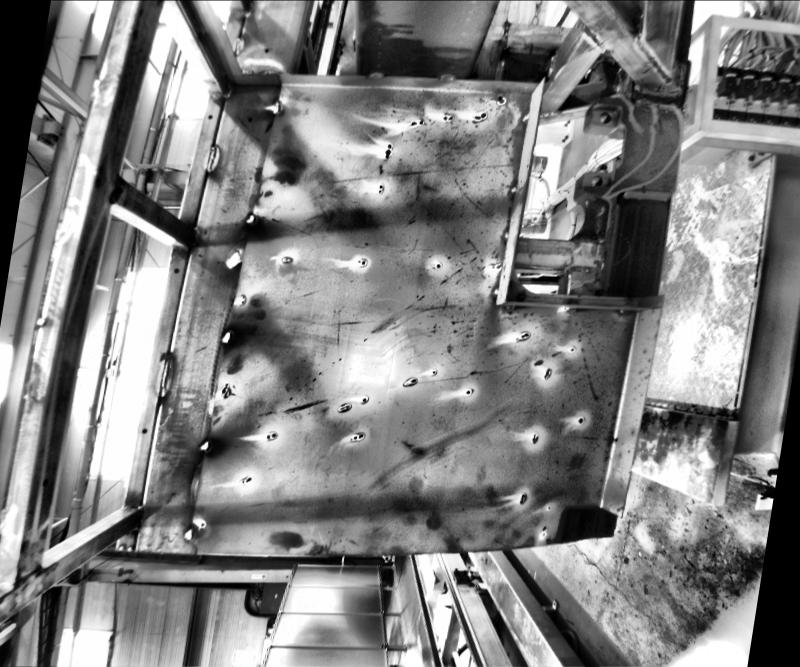hole: (590, 174, 604, 188), (598, 112, 614, 124), (173, 266, 181, 274), (136, 514, 141, 522), (247, 117, 253, 121), (264, 48, 270, 52), (142, 428, 148, 432), (208, 114, 213, 118)
welding: (632, 40, 674, 78), (582, 25, 608, 50), (160, 355, 172, 402), (199, 434, 217, 456), (232, 34, 246, 58), (205, 142, 216, 170), (112, 174, 122, 204), (244, 211, 260, 229), (273, 99, 285, 116), (436, 71, 456, 81), (188, 228, 198, 248), (220, 330, 234, 344), (520, 110, 534, 122), (183, 526, 197, 538), (134, 508, 142, 528), (560, 306, 582, 310), (368, 72, 382, 78), (511, 183, 519, 193), (493, 286, 500, 297), (619, 310, 631, 314), (505, 304, 515, 308), (503, 230, 508, 238)
